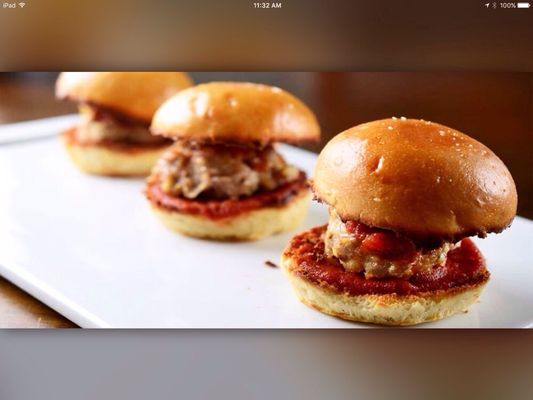soup: (281, 116, 519, 324), (143, 81, 321, 243), (54, 72, 197, 177)
